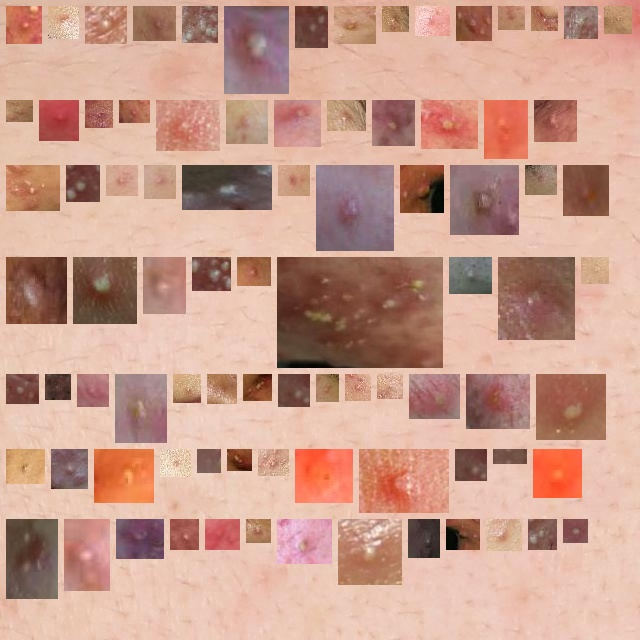pustule: (285, 265, 435, 360), (324, 173, 386, 243), (506, 265, 567, 332), (367, 457, 441, 505), (232, 14, 281, 86), (458, 173, 511, 227), (544, 382, 598, 432), (81, 265, 129, 316), (346, 527, 394, 577), (14, 527, 50, 591), (14, 265, 59, 316), (190, 173, 264, 202), (123, 382, 159, 435), (474, 382, 522, 421), (164, 108, 212, 143), (72, 527, 102, 583), (102, 457, 146, 495), (303, 457, 345, 495), (429, 108, 470, 141), (282, 100, 313, 139), (492, 108, 520, 151), (14, 173, 52, 203), (285, 527, 324, 556), (151, 265, 178, 306), (541, 457, 574, 490), (571, 173, 601, 208), (417, 382, 452, 411), (408, 173, 436, 205), (380, 108, 407, 138), (124, 527, 156, 551), (234, 108, 260, 136), (542, 108, 569, 134), (47, 108, 71, 133), (93, 14, 119, 36), (342, 14, 368, 36), (457, 265, 484, 286), (141, 14, 168, 33), (416, 527, 438, 550), (59, 457, 80, 481), (303, 14, 320, 40), (14, 14, 34, 36), (14, 457, 37, 476), (190, 14, 210, 35), (200, 265, 223, 283), (464, 14, 484, 33), (74, 173, 92, 194), (335, 108, 358, 123), (494, 527, 514, 543), (572, 14, 590, 31), (152, 173, 168, 191), (213, 527, 232, 542), (85, 382, 101, 399), (286, 382, 302, 399), (454, 527, 472, 542), (423, 14, 442, 28), (463, 457, 479, 473), (56, 14, 71, 31), (13, 382, 31, 396), (114, 173, 130, 188), (286, 173, 302, 188), (245, 265, 263, 278), (533, 173, 549, 187), (215, 382, 229, 396), (178, 527, 191, 542), (536, 527, 549, 542), (168, 457, 183, 469), (266, 457, 281, 468), (181, 382, 193, 395), (612, 14, 624, 26), (93, 108, 105, 120), (251, 382, 264, 393), (589, 265, 601, 276), (390, 14, 401, 24), (353, 382, 363, 393), (127, 108, 142, 115), (53, 382, 63, 392), (539, 14, 550, 23), (385, 382, 395, 391), (506, 14, 517, 22), (324, 382, 331, 394), (254, 527, 263, 535), (571, 527, 580, 535), (14, 108, 25, 114), (205, 457, 213, 465), (235, 457, 244, 464)
